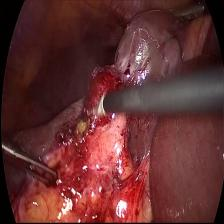Grasper: (1, 140, 60, 194), (170, 2, 204, 26)
Hook: (82, 90, 112, 130)
